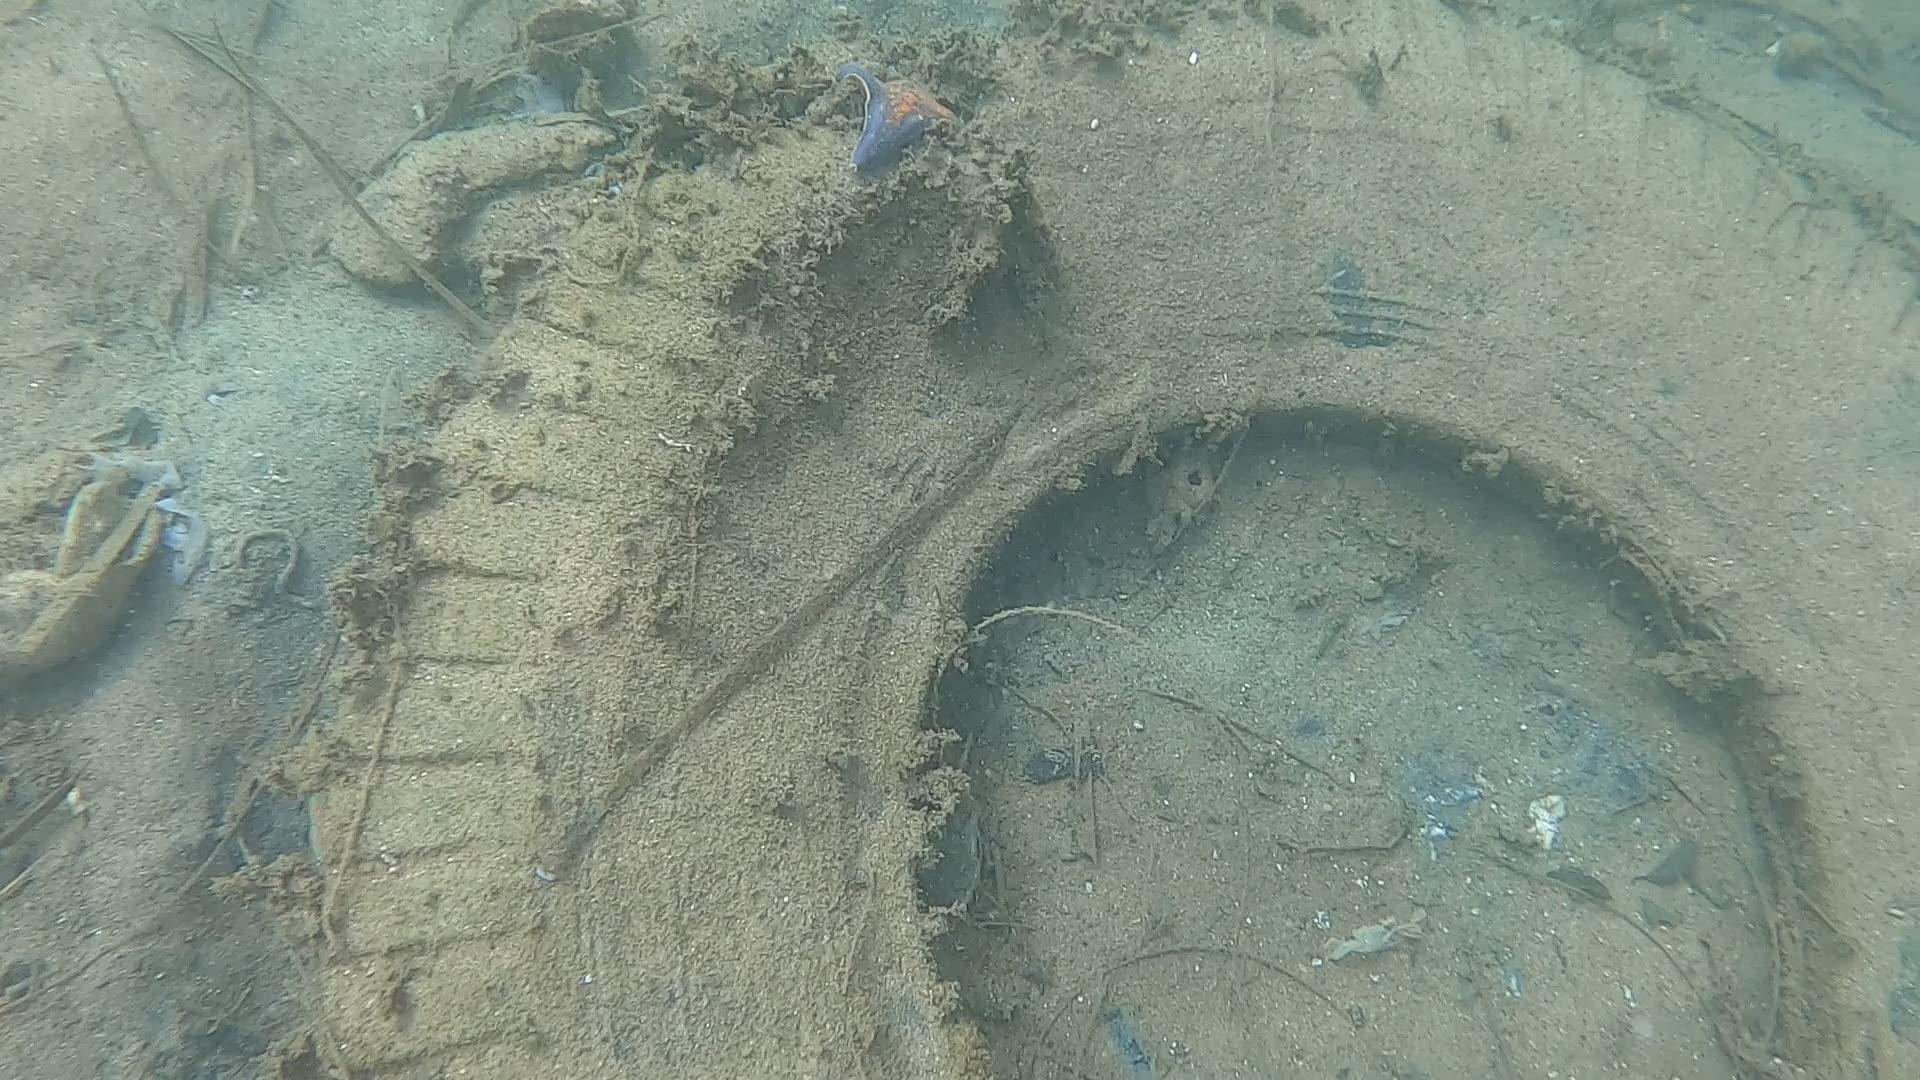tire: (293, 0, 1920, 1080)
